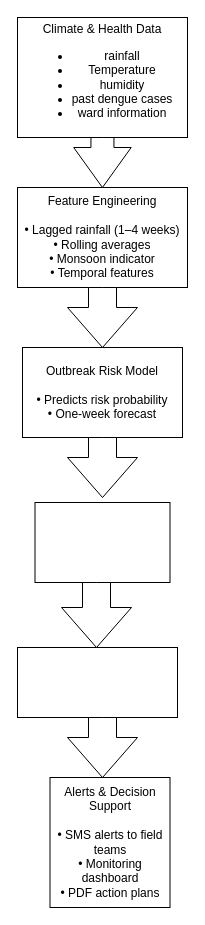
Image size: 205x925. Some labels were removed from this diagram. The shapes that lost their labels are listed below. From the top down, each one's box as (x1, y1, x2, y2) in pixels, then its label:
(34, 502, 170, 582): Risk Decision Engine • Low Risk • Medium Risk • High Risk
(16, 646, 178, 718): API Service • Serves risk protection • Returns risk results
